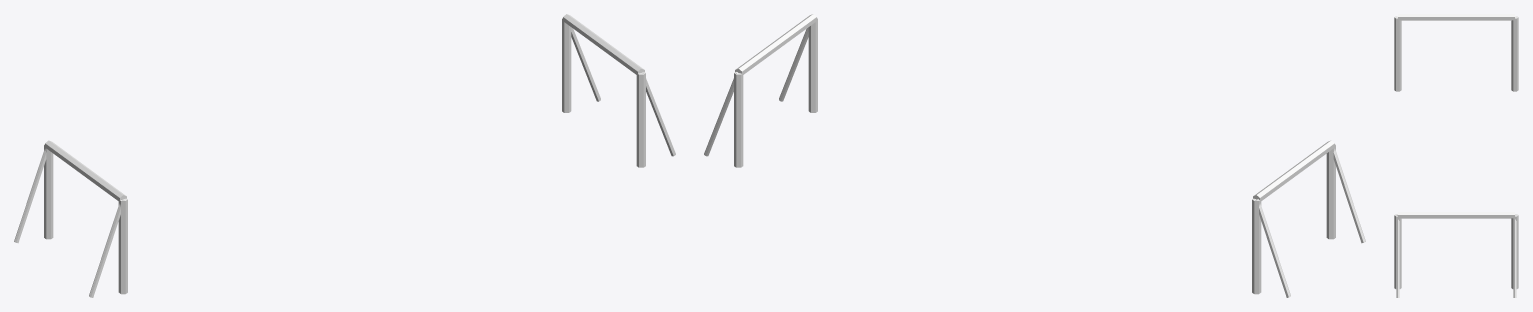
The picture shows the model from 3 angles, left to right: view 1: azimuth 30°, elevation 25°; view 2: azimuth 150°, elevation 25°; view 3: azimuth 270°, elevation 25°; orthographic projection. The views are drawn at different scales.
Visible parts, largest first — view 1: Goal post.002, Goal post, Crossbar, Crossbar.001, Goal post.003, Goal post.001, Net support, Net support.001, Net support.002; view 2: Goal post.003, Goal post.001, Crossbar, Crossbar.001, Goal post.002, Goal post, Net support.001, Net support, Net support.003; view 3: Crossbar, Crossbar.001, Goal post.001, Goal post, Goal post.003, Goal post.002, Net support.002, Net support.003.
Boxes of the visible parts, x1,y1,x2,y2 form: Goal post.002: (636, 72, 645, 167); Goal post: (118, 198, 127, 294); Crossbar: (45, 140, 126, 201); Crossbar.001: (563, 14, 644, 74); Goal post.003: (562, 17, 571, 112); Goal post.001: (44, 144, 53, 239); Net support: (89, 199, 124, 297); Net support.001: (14, 149, 46, 243); Net support.002: (642, 71, 675, 156); Goal post.003: (734, 72, 743, 167); Goal post.001: (1252, 198, 1261, 294); Crossbar: (1253, 140, 1334, 201); Crossbar.001: (735, 14, 816, 75); Goal post.002: (808, 17, 817, 112); Goal post: (1326, 144, 1335, 239); Net support.001: (1255, 199, 1290, 297); Net support: (1333, 149, 1365, 243); Net support.003: (704, 71, 737, 156); Crossbar: (1398, 14, 1514, 20); Crossbar.001: (1398, 212, 1514, 218); Goal post.001: (1511, 16, 1518, 91); Goal post: (1394, 16, 1401, 91); Goal post.003: (1511, 214, 1518, 288); Goal post.002: (1394, 214, 1401, 288); Net support.002: (1396, 215, 1399, 297); Net support.003: (1513, 215, 1516, 297).
Bounding box in the file's own units: 3.63 × 0.575 × 0.85.
Materials: 1 (1 with a texture image).
